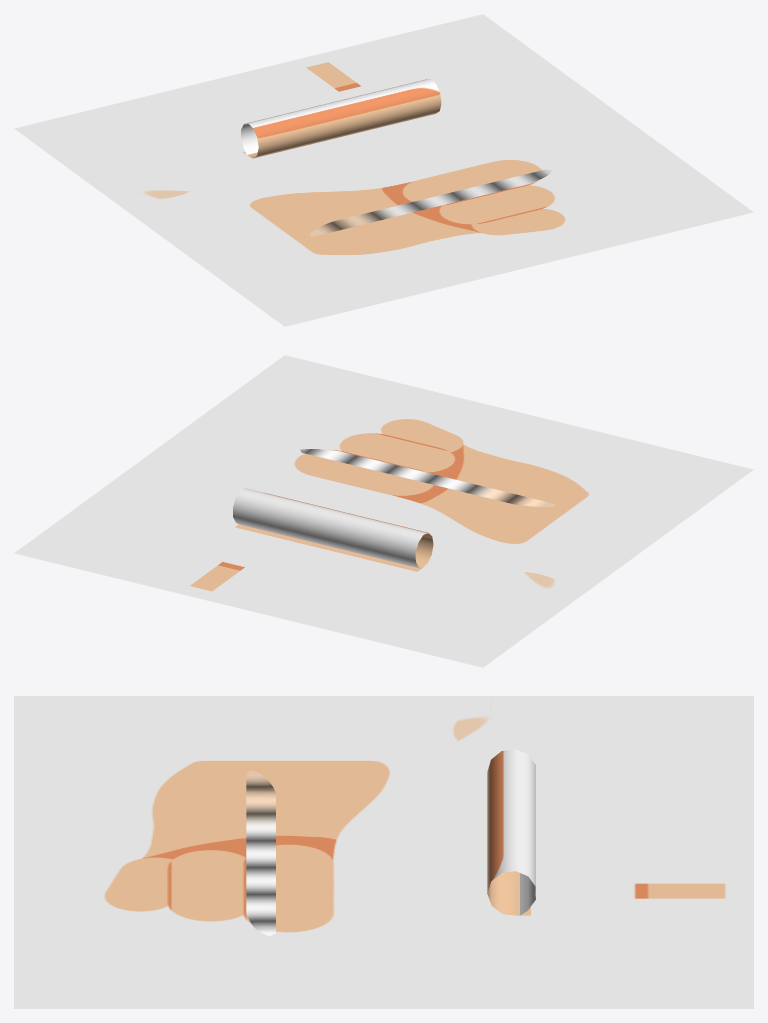
3 renders of one model, top to bottom at view 1: azimuth 30°, elevation 25°; view 2: azimuth 150°, elevation 25°; view 3: azimuth 270°, elevation 25°, orthographic. The views are drawn at different scales.
Visible parts, largest first — view 1: mesh, blend_02, blend_01; view 2: mesh, blend_02, blend_01; view 3: mesh, blend_02, blend_01.
Boxes of the visible parts, x1,y1,x2,y2 form: mesh: (14,14,753,326); blend_02: (241,79,441,158); blend_01: (309,169,551,236); mesh: (14,355,753,667); blend_02: (233,488,433,571); blend_01: (300,449,555,506); mesh: (14,696,753,1008); blend_02: (487,749,535,915); blend_01: (246,770,275,936).
Bounding box in the file's own units: 2400 × 382 × 2400.
